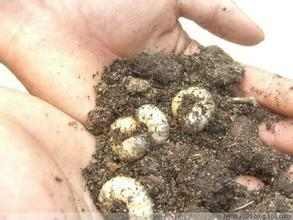grub: (96, 175, 152, 218)
